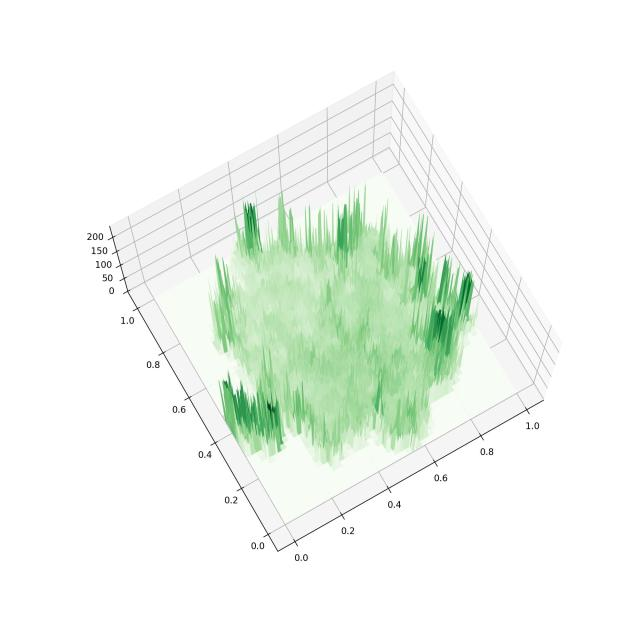fir: (52, 47, 572, 583)
